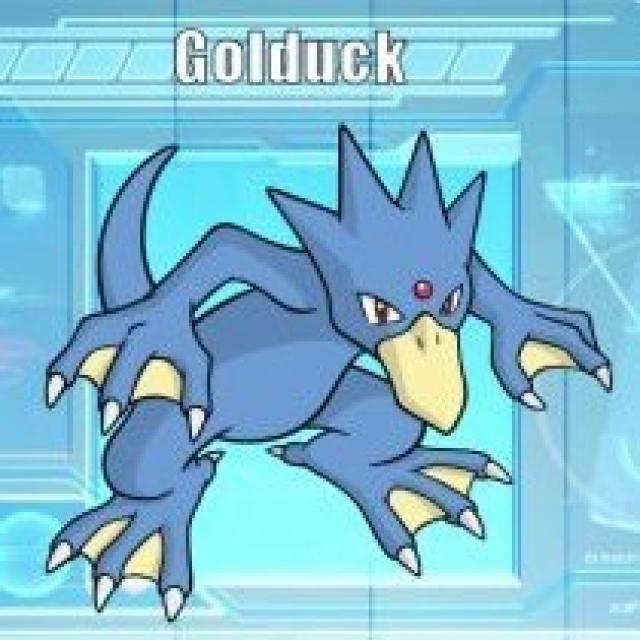Golduck: (78, 143, 562, 572)
